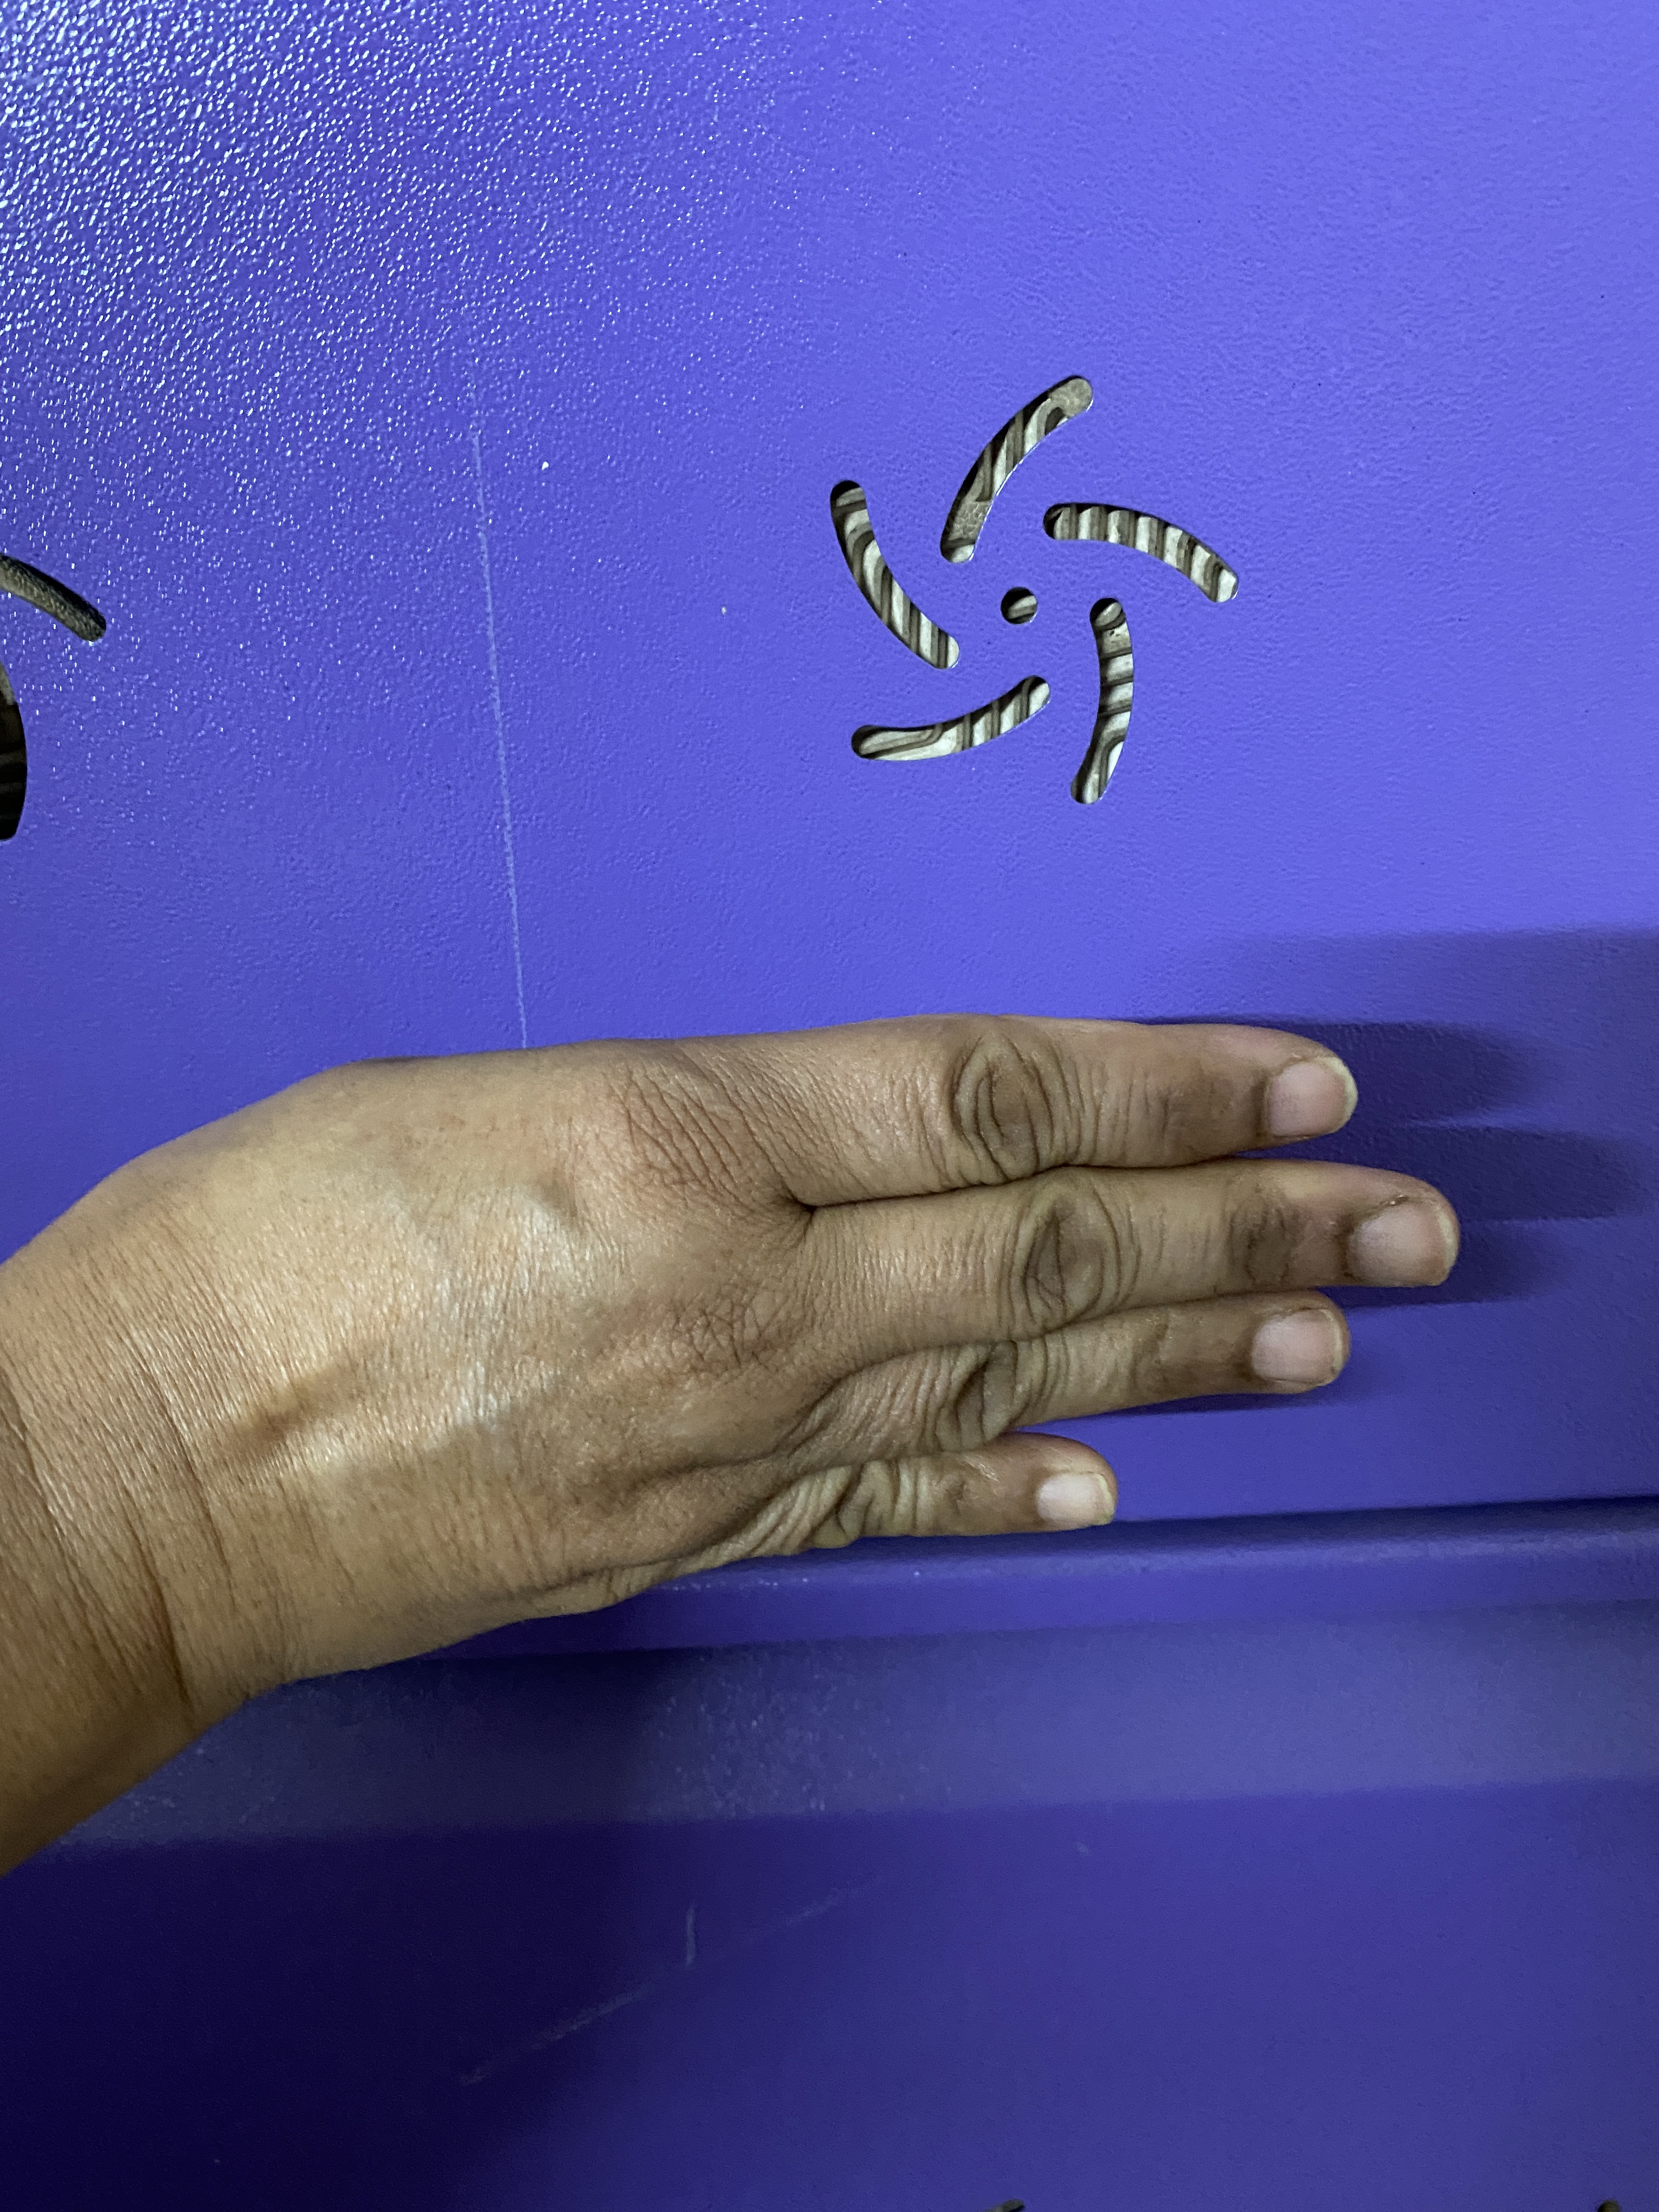left: (7, 956, 1530, 1944)
